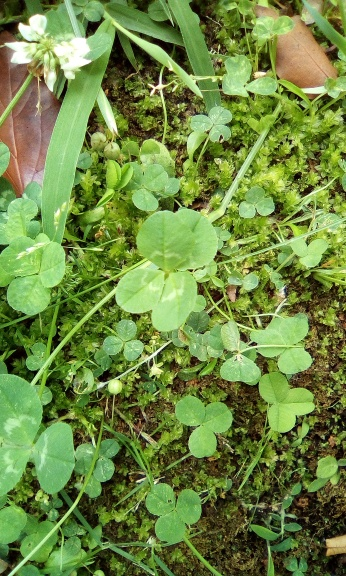4leaf: (114, 208, 218, 333)
